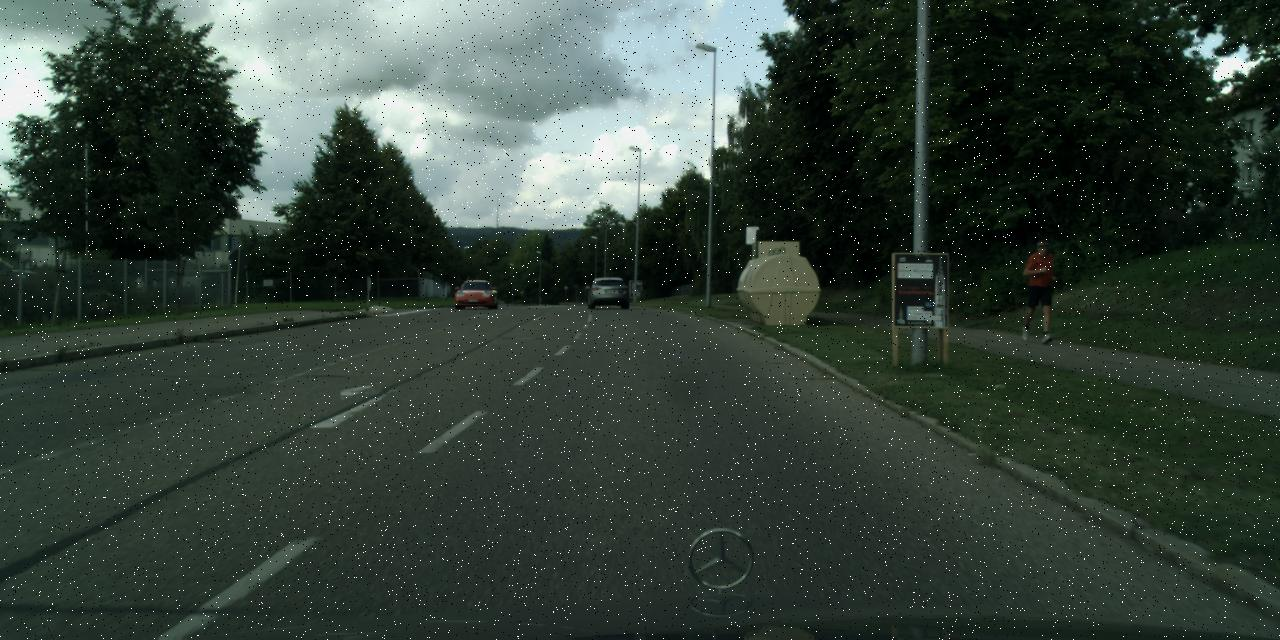ped: (1018, 239, 1059, 339)
